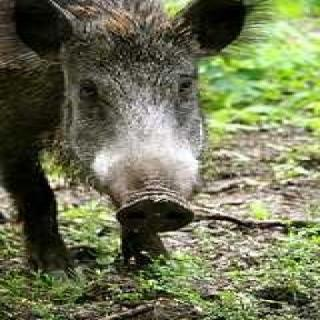Pig: (0, 0, 250, 265)
